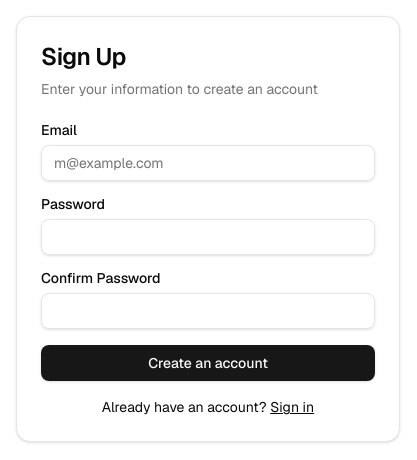
Scenario: SignUp Page › shows success message after successful signup
Step 1. Type "test@example.com" into the field labelled "Email" → (208, 163), box x1=41 y1=145 x2=375 y2=181
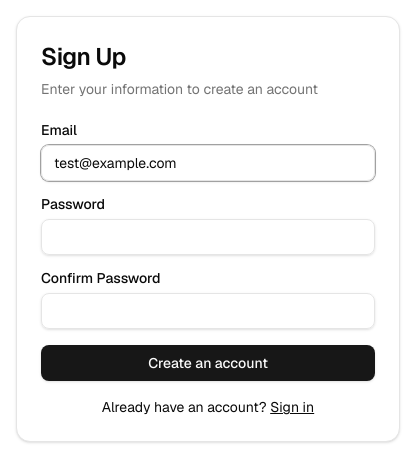
Step 2. Type "password123" into the password field labelled "Password" → (208, 237), box x1=41 y1=219 x2=375 y2=255
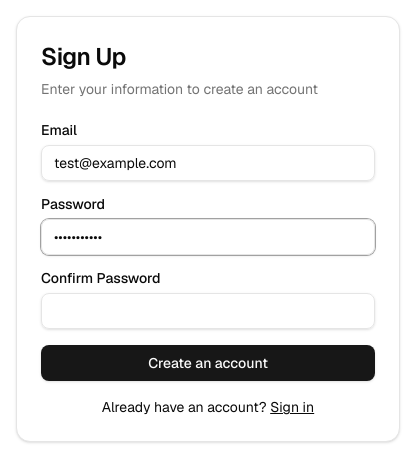
Step 3. Type "password123" into the password field labelled "Confirm Password" → (208, 311), box x1=41 y1=293 x2=375 y2=329
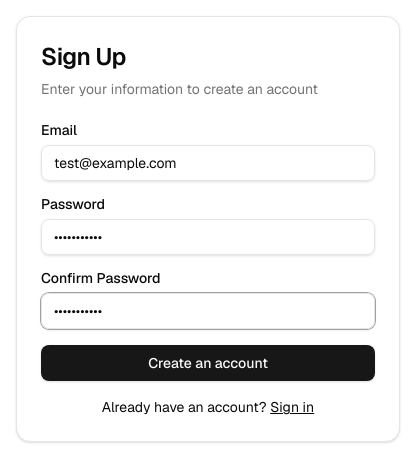
Step 4. Click the button "Create an account" → (208, 363), box x1=41 y1=345 x2=375 y2=381
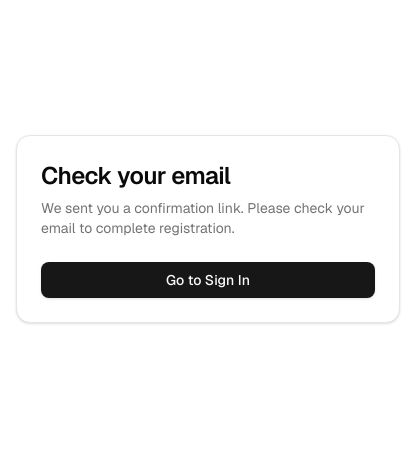
Check: the button "Go to Sign In" is shown, box x1=41 y1=262 x2=375 y2=298
Check: the text "We sent you a confirmation link" is shown, box x1=41 y1=199 x2=365 y2=237
